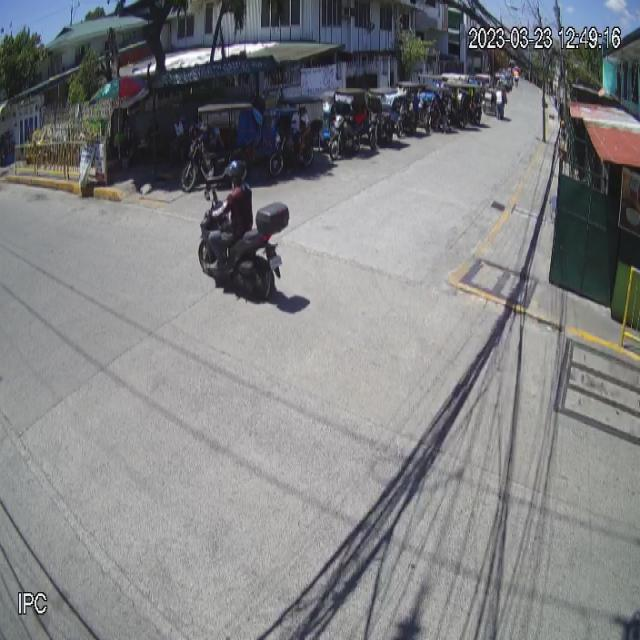Motorcycle: (198, 187, 290, 306)
